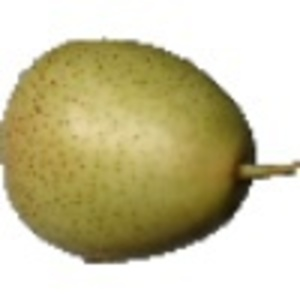pera: (1, 37, 300, 266)
